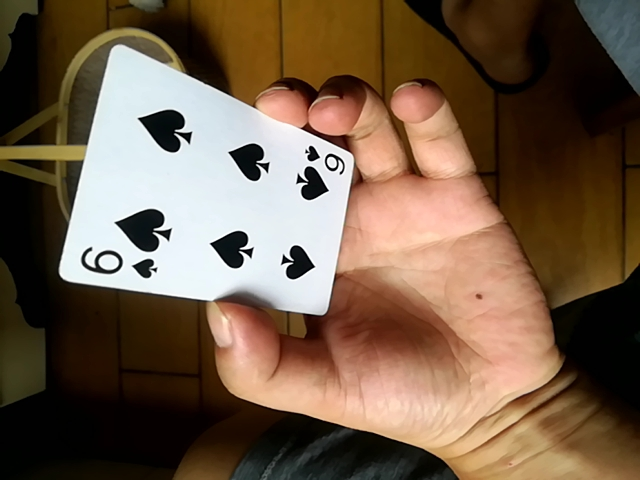ht 6: (61, 39, 356, 321)
